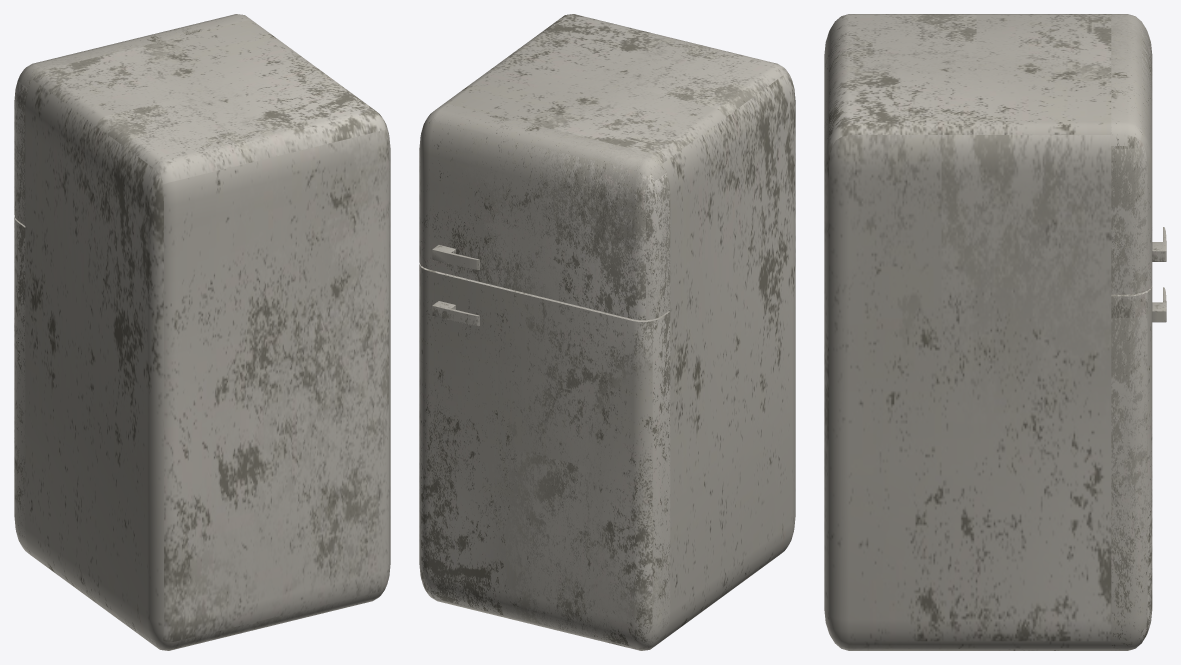
The model's file is fridge.glb.
3 renders of one model, left to right at view 1: azimuth 30°, elevation 25°; view 2: azimuth 150°, elevation 25°; view 3: azimuth 270°, elevation 25°, orthographic. The views are drawn at different scales.
Parts seen in each view (by area): view 1: fridge, door_1, door_2; view 2: fridge, door_2, door_1; view 3: fridge, door_2, door_1.
Boxes of the visible parts, left/top/right/bottom form: fridge: left=25, top=20, right=390, bottom=650; door_1: left=14, top=14, right=251, bottom=225; door_2: left=14, top=216, right=35, bottom=558; fridge: left=443, top=14, right=795, bottom=642; door_2: left=419, top=263, right=670, bottom=650; door_1: left=419, top=104, right=670, bottom=320; fridge: left=824, top=14, right=1111, bottom=650; door_2: left=1111, top=285, right=1166, bottom=650; door_1: left=1111, top=14, right=1166, bottom=294.
Size of the model in its own units: 1 by 1.96 by 1.15.
Materials: 1 (1 with a texture image).
